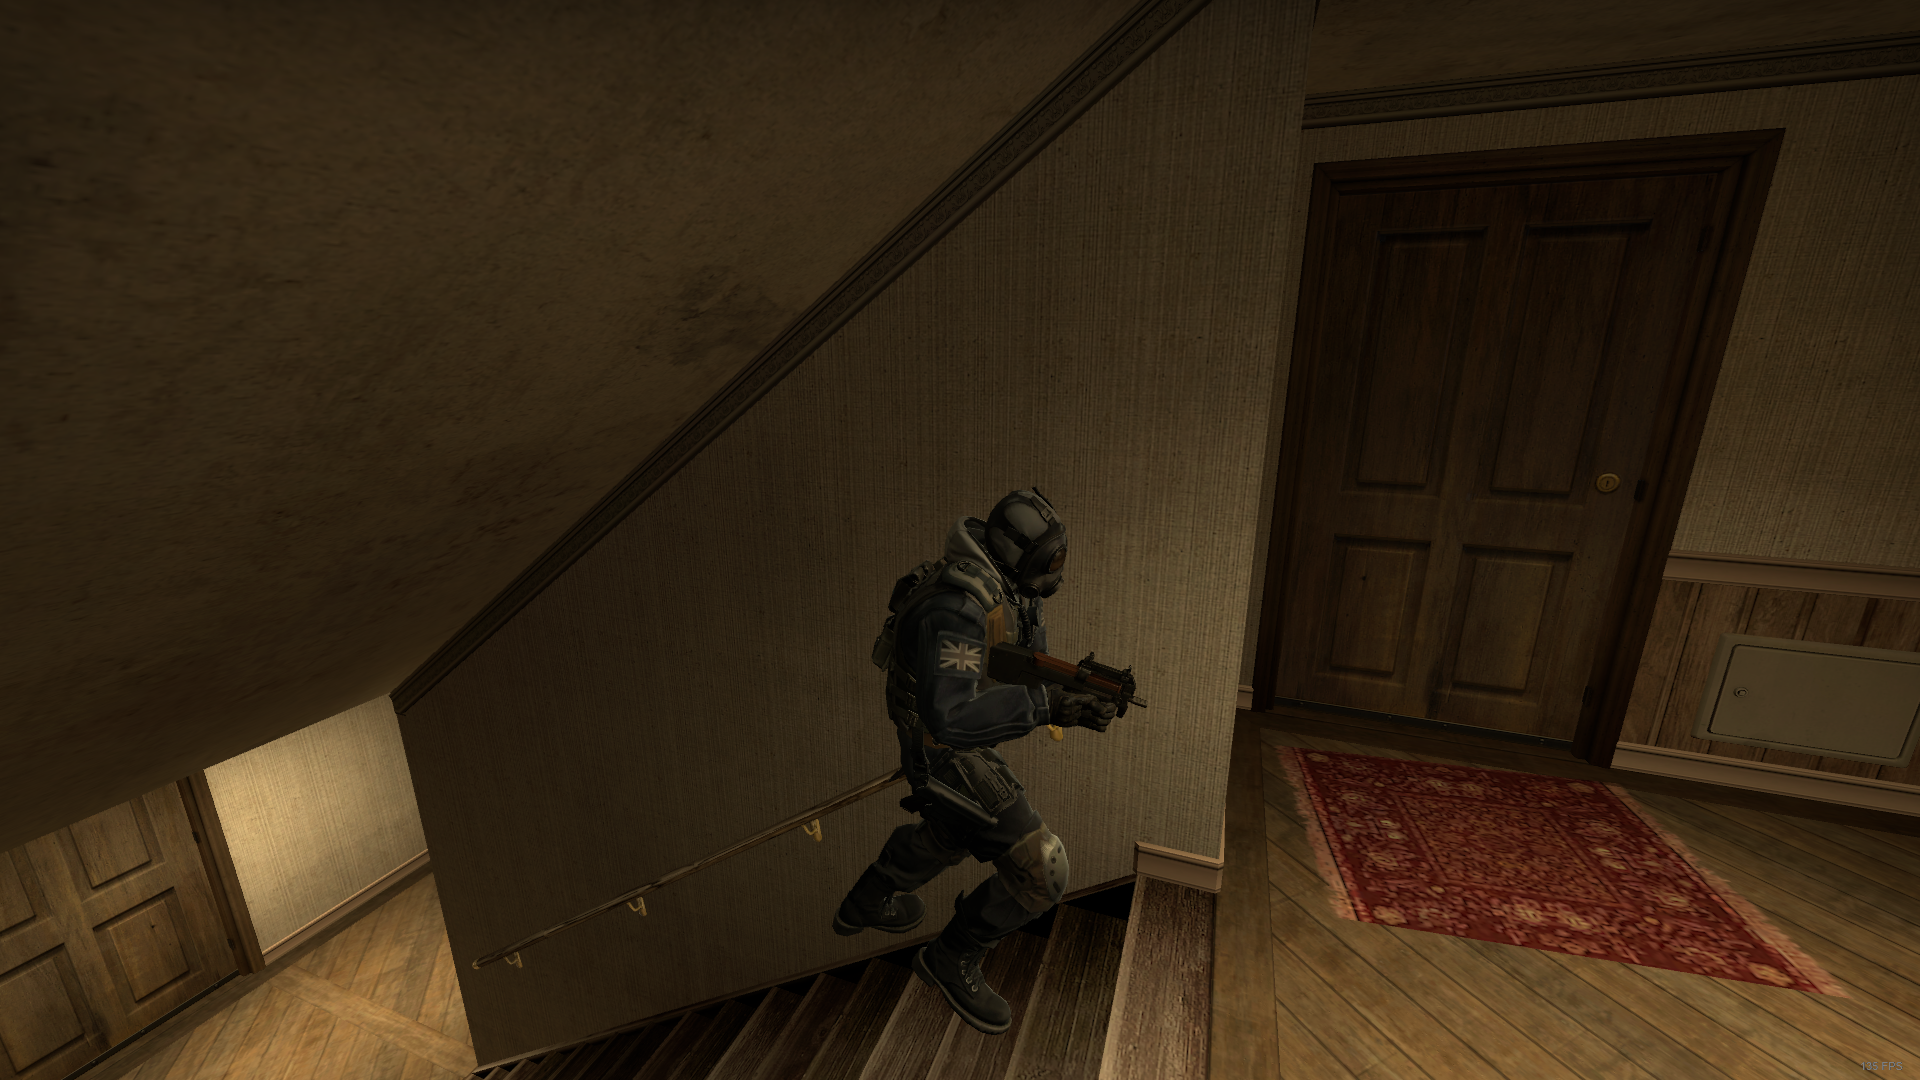ct: (822, 473, 1118, 1042)
